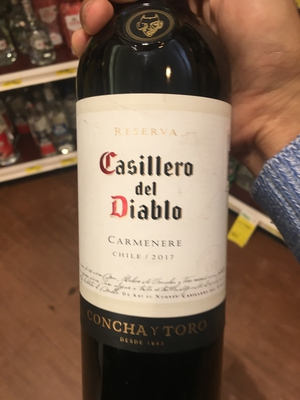casillero del diablo carmenere: (80, 15, 236, 400)
